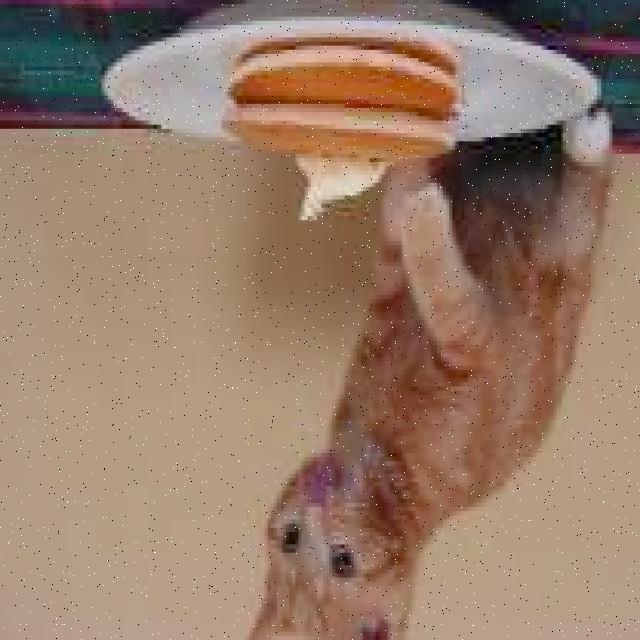Cat: (231, 436, 446, 640)
